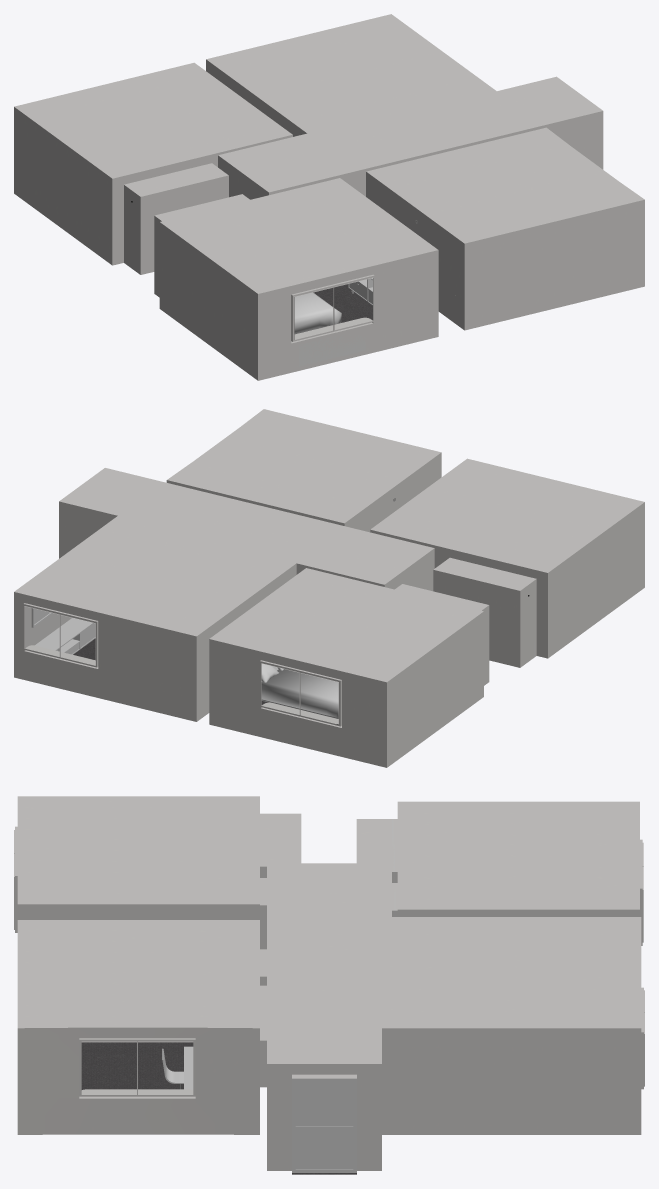
3 renders of one model, top to bottom at view 1: azimuth 30°, elevation 25°; view 2: azimuth 150°, elevation 25°; view 3: azimuth 270°, elevation 25°, orthographic. The views are drawn at different scales.
Parts seen in each view (by area): view 1: flat, plaid_1, radiator_2; view 2: flat, plaid_2, nightstand_1; view 3: flat, door_1.
Part boxes in pixels (bbox=[...]): flat: bbox=[14, 14, 644, 380]; plaid_1: bbox=[294, 292, 341, 333]; radiator_2: bbox=[299, 332, 365, 366]; flat: bbox=[14, 409, 644, 767]; plaid_2: bbox=[261, 669, 338, 718]; nightstand_1: bbox=[35, 618, 95, 654]; flat: bbox=[14, 796, 644, 1174]; door_1: bbox=[292, 1078, 356, 1172].
Size of the model in its own units: 1092 by 201 by 1071.
